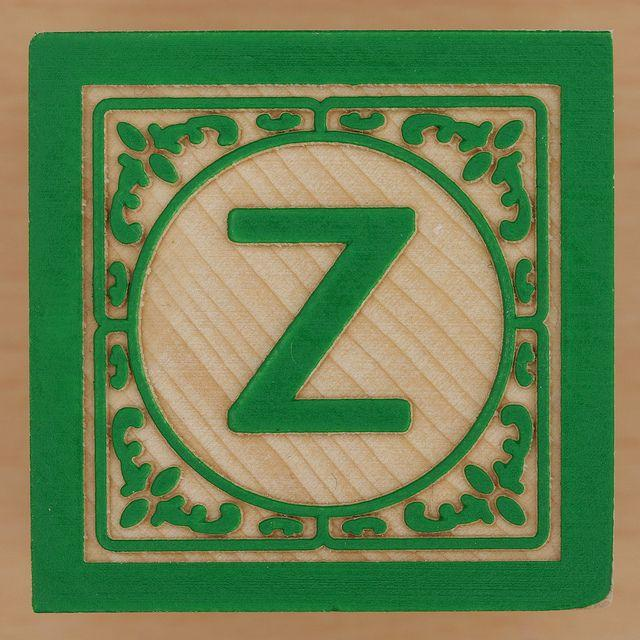Z: (213, 196, 431, 446)
